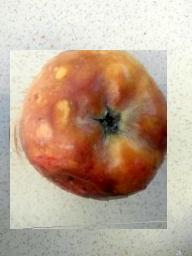Apple Rotten: (11, 51, 168, 230)
